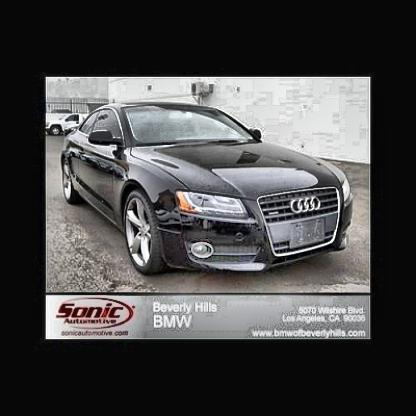Audi A5 Coupe 2012: (61, 103, 354, 278)
